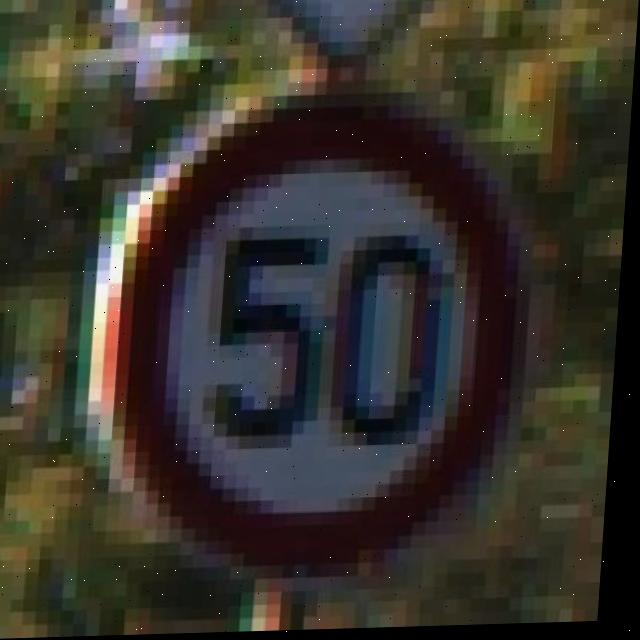Speed limit 50: (100, 104, 540, 575)
